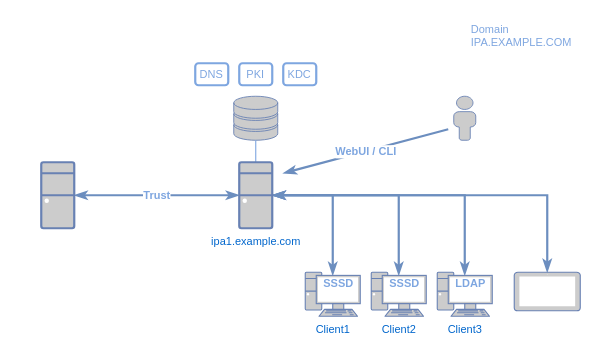
Some shapes in this 608 by 355 pixel diagram are drawn without their labels. Here are the shapes that lost their labels. From the top down, the centre of each, then its label:
[464,118]: Administrator
[57,195]: Windows Active Directory
[547,291]: WebApp
